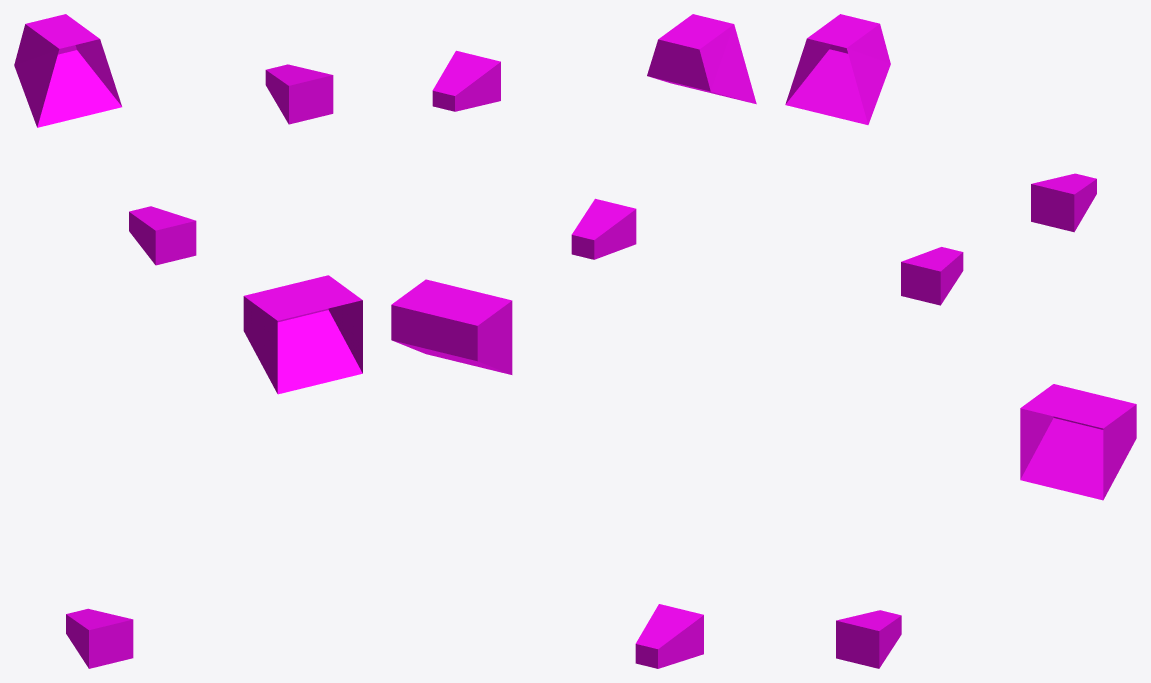
Rendered from climbing_rocks.obj.
3 renders of one model, left to right at view 1: azimuth 30°, elevation 25°; view 2: azimuth 150°, elevation 25°; view 3: azimuth 330°, elevation 25°, orthographic. The views are drawn at different scales.
Parts seen in each view (by area): view 1: climbing_rocks_back; view 2: climbing_rocks_back; view 3: climbing_rocks_back.
Part boxes in pixels (x1,y1,x2,y2): climbing_rocks_back: (14, 14, 362, 668); climbing_rocks_back: (391, 14, 756, 668); climbing_rocks_back: (785, 14, 1136, 668).
Bounding box in the file's own units: 0.88 × 1.62 × 0.16.
